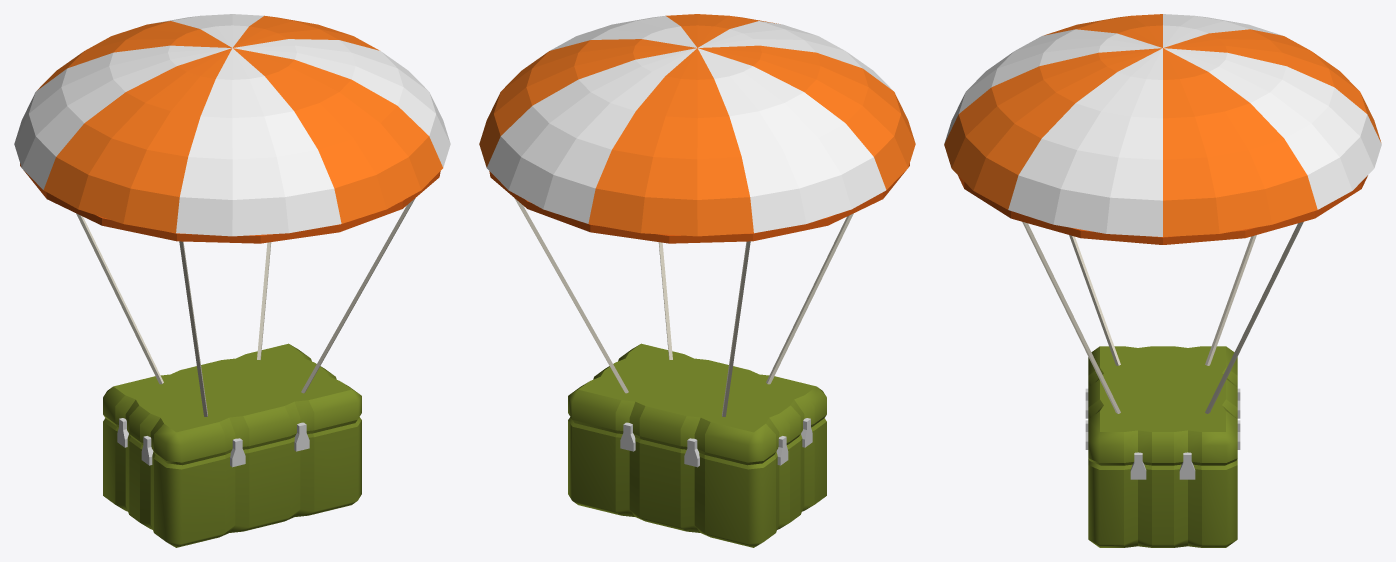
File: item_ally_crate.glb
3 views of the same model, side by side, from view 1: azimuth 30°, elevation 25°; view 2: azimuth 150°, elevation 25°; view 3: azimuth 270°, elevation 25° (orthographic).
Parts seen in each view (by area): view 1: parachute_mesh, item_mesh; view 2: parachute_mesh, item_mesh; view 3: parachute_mesh, item_mesh.
Boxes of the visible parts, x1,y1,x2,y2 form: parachute_mesh: [14, 14, 450, 416]; item_mesh: [103, 343, 361, 547]; parachute_mesh: [479, 14, 915, 416]; item_mesh: [568, 343, 826, 547]; parachute_mesh: [944, 14, 1381, 413]; item_mesh: [1085, 346, 1240, 547].
Size of the model in its own units: 2.09 by 2.41 by 2.09.
Materials: 1 (1 with a texture image).
